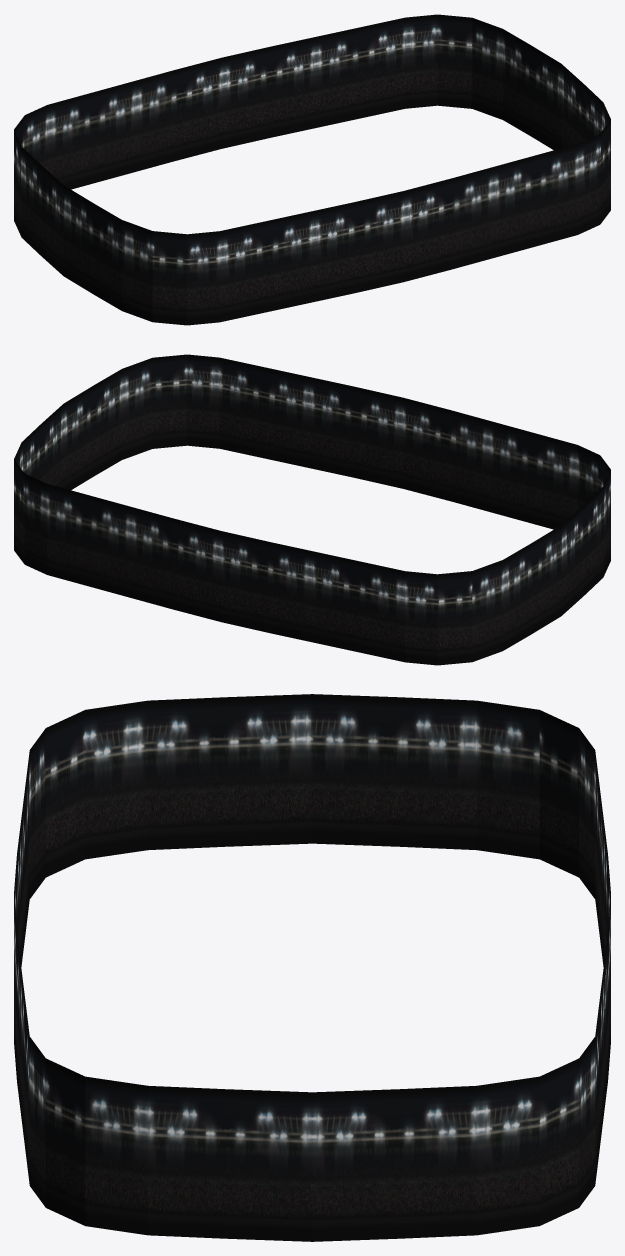
File: publico.FBX
3 views of the same model, one above another, from view 1: azimuth 30°, elevation 25°; view 2: azimuth 150°, elevation 25°; view 3: azimuth 270°, elevation 25° (orthographic). The views are drawn at different scales.
Parts seen in each view (by area): view 1: publico; view 2: publico; view 3: publico.
Part boxes in pixels (x1,y1,x2,y2): publico: [14, 14, 610, 325]; publico: [14, 354, 610, 665]; publico: [14, 694, 610, 1241].
Bounding box in the file's own units: 150 × 26.21 × 94.83.
